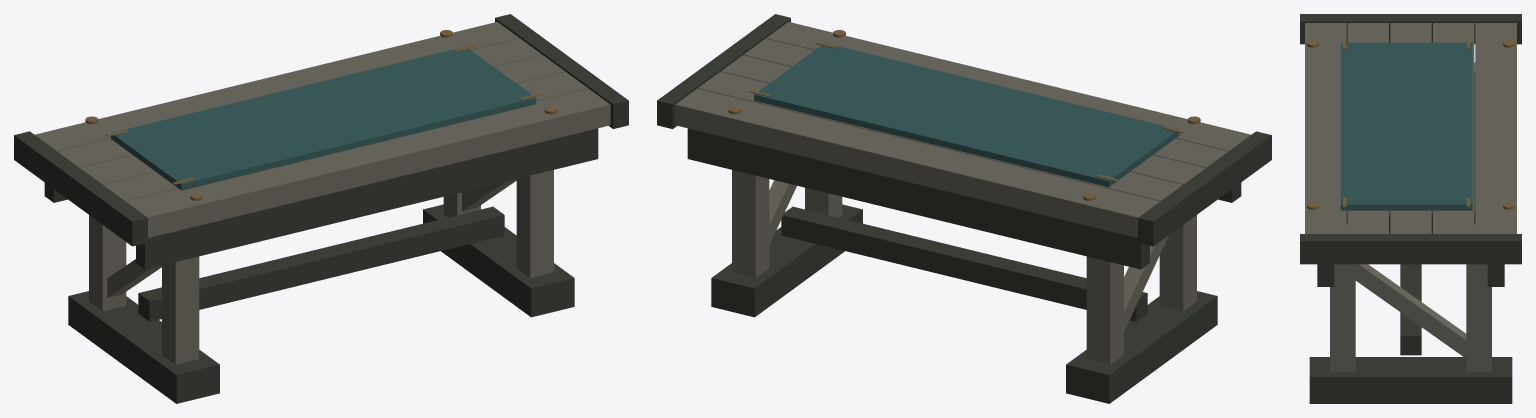
File: pavilion_worktable.glb
3 renders of one model, left to right at view 1: azimuth 30°, elevation 25°; view 2: azimuth 150°, elevation 25°; view 3: azimuth 270°, elevation 25°, orthographic. The views are drawn at different scales.
Parts seen in each view (by area): view 1: pavilion_worktable; view 2: pavilion_worktable; view 3: pavilion_worktable.
Boxes of the visible parts, x1,y1,x2,y2 form: pavilion_worktable: [14, 14, 628, 403]; pavilion_worktable: [657, 14, 1271, 403]; pavilion_worktable: [1300, 14, 1521, 403].
Bounding box in the file's own units: 2.52 × 0.984 × 1.04.
